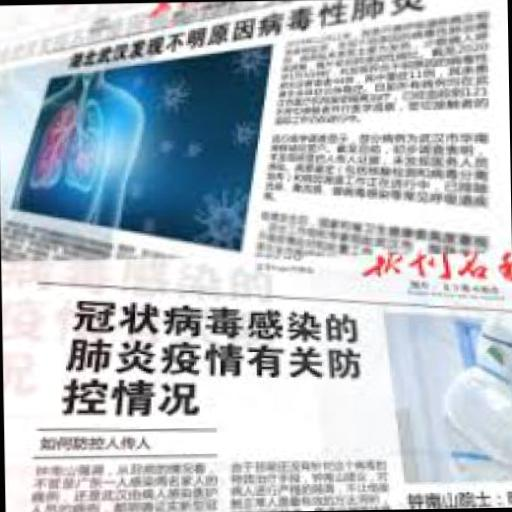paper: (0, 0, 511, 265), (1, 249, 512, 512)
